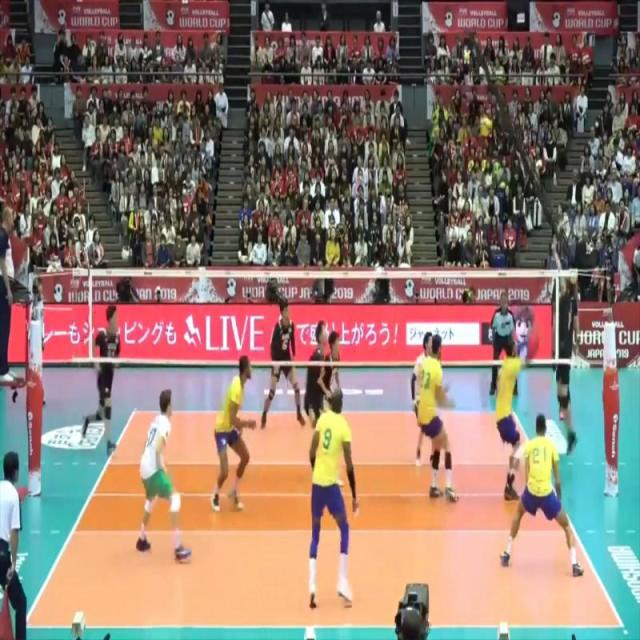volleyball: (478, 113, 494, 140)
